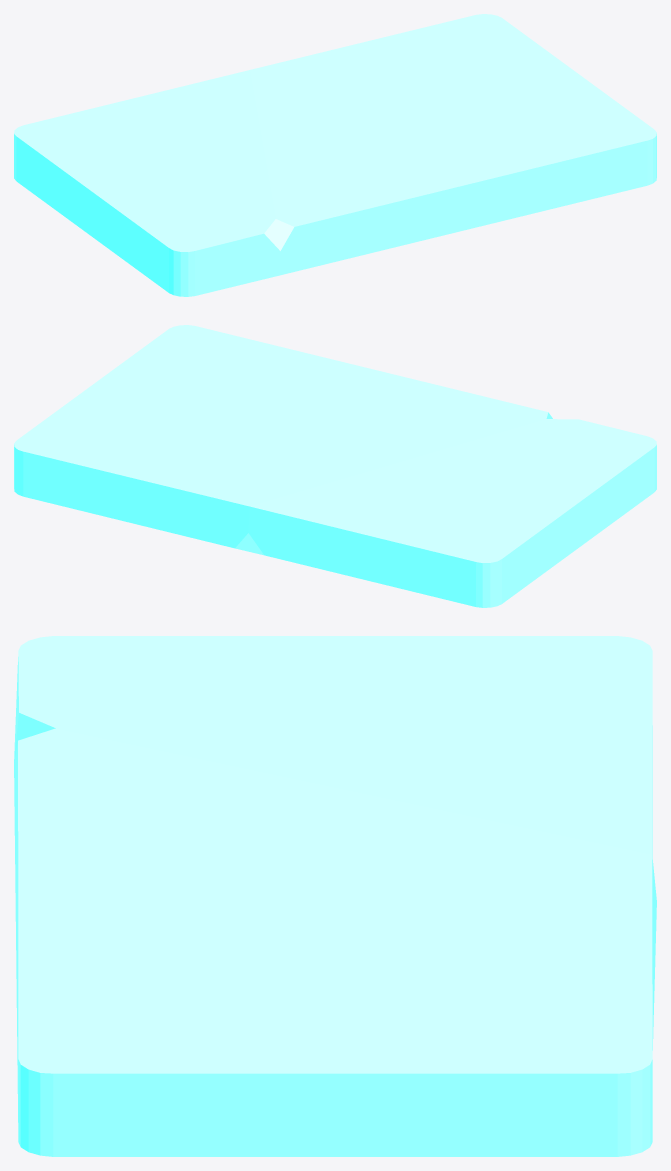
File: journal.fbx
The picture shows the model from 3 angles, top to bottom: view 1: azimuth 30°, elevation 25°; view 2: azimuth 150°, elevation 25°; view 3: azimuth 270°, elevation 25°; orthographic projection. The views are drawn at different scales.
Visible parts, largest first — view 1: journal.001; view 2: journal.001; view 3: journal.001.
Boxes of the visible parts, x1,y1,x2,y2 form: journal.001: (14, 14, 656, 296); journal.001: (14, 325, 656, 607); journal.001: (14, 636, 656, 1156).
Size of the model in its own units: 140 by 13.82 by 87.21.
